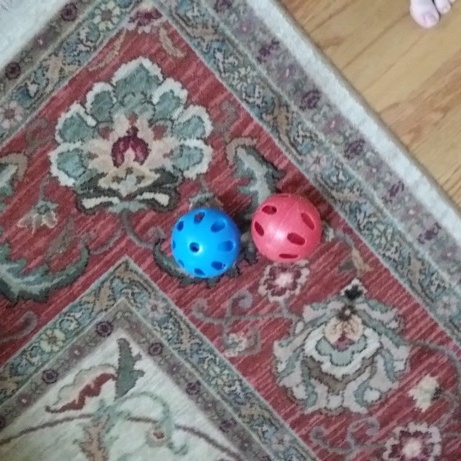blueball: (165, 206, 243, 281)
redball: (244, 189, 326, 266)
